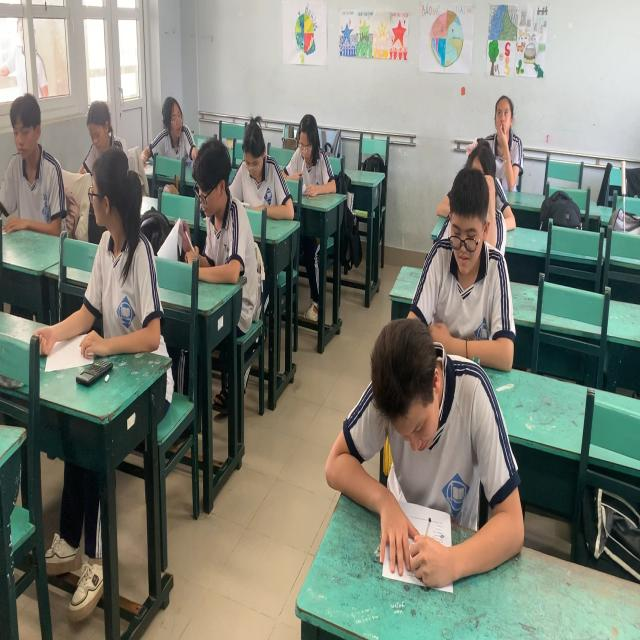cheating: (86, 160, 159, 345), (154, 72, 195, 154)
not_cheating: (360, 303, 510, 549), (440, 158, 494, 322), (4, 83, 53, 246), (184, 132, 238, 278), (294, 90, 332, 208), (72, 81, 120, 168), (242, 110, 277, 226), (492, 82, 531, 169)
